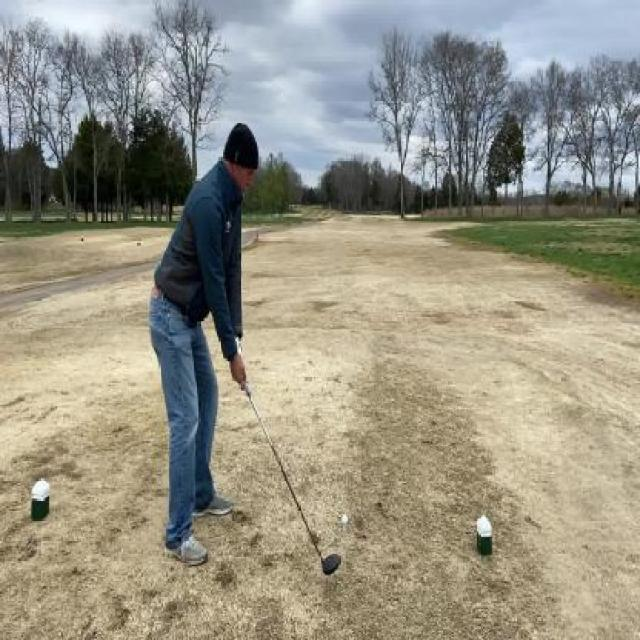club head: (318, 552, 340, 576)
